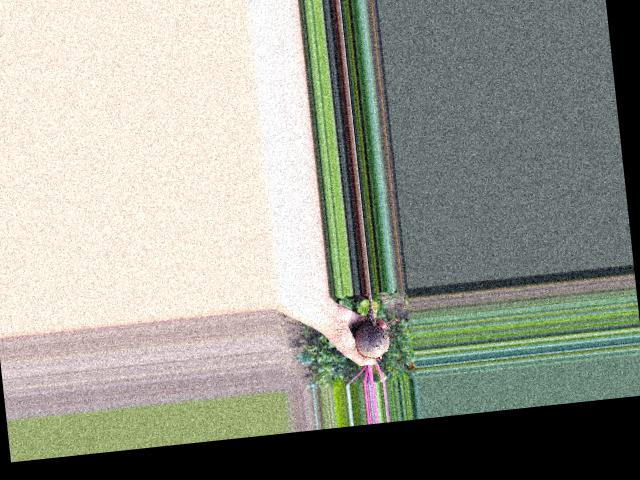beet: (336, 288, 407, 385)
